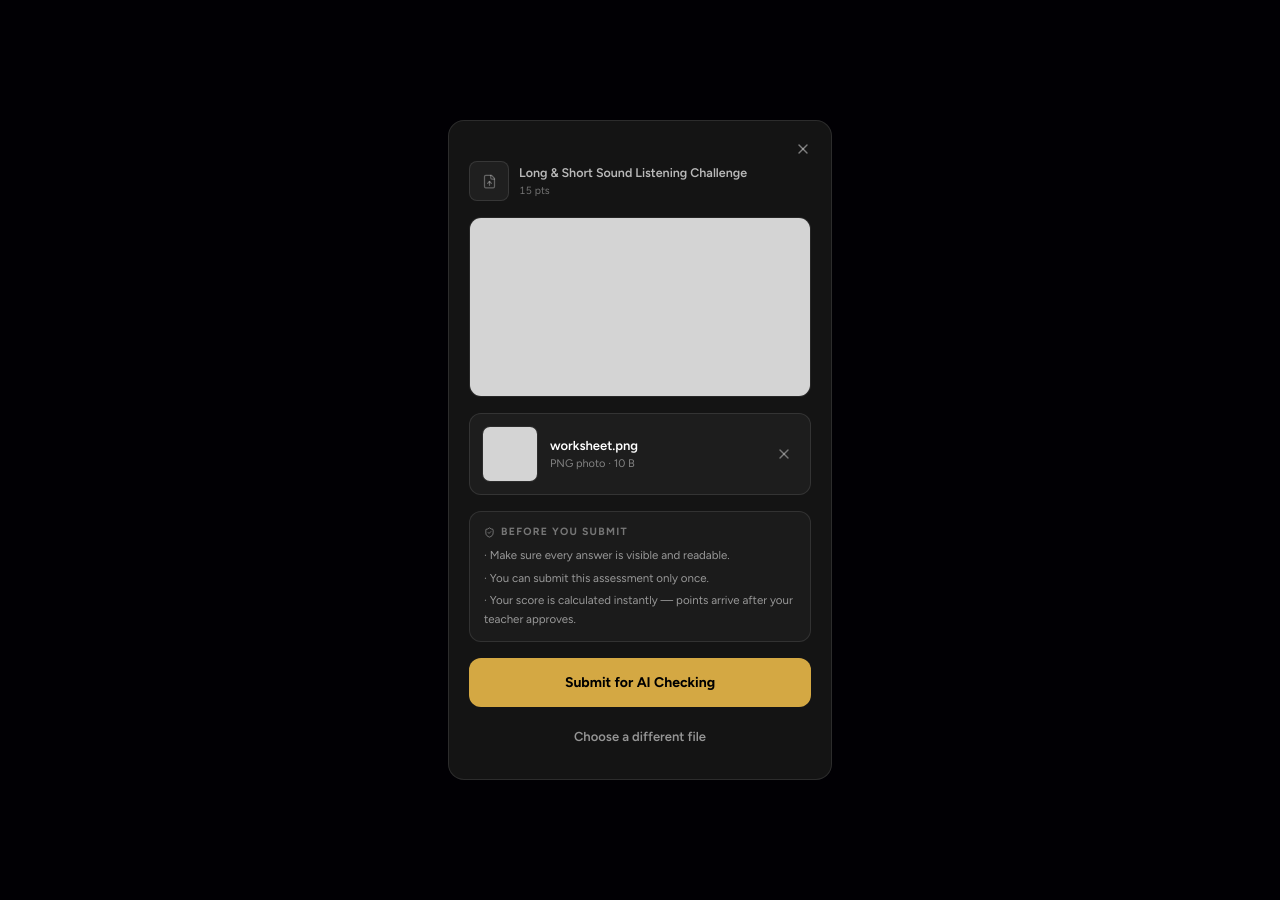
Test case: the remove-file action clears the selection and returns to the three entry points
This screenshot has width=1280, height=900.
Earlier steps of the test are not shown.
Expected: the element with test id "assessment-submit-selected-file" is shown, 469,413 -> 811,495
Click the button with test id "assessment-submit-remove-file-button" at (784,454), box 770,440 -> 798,468
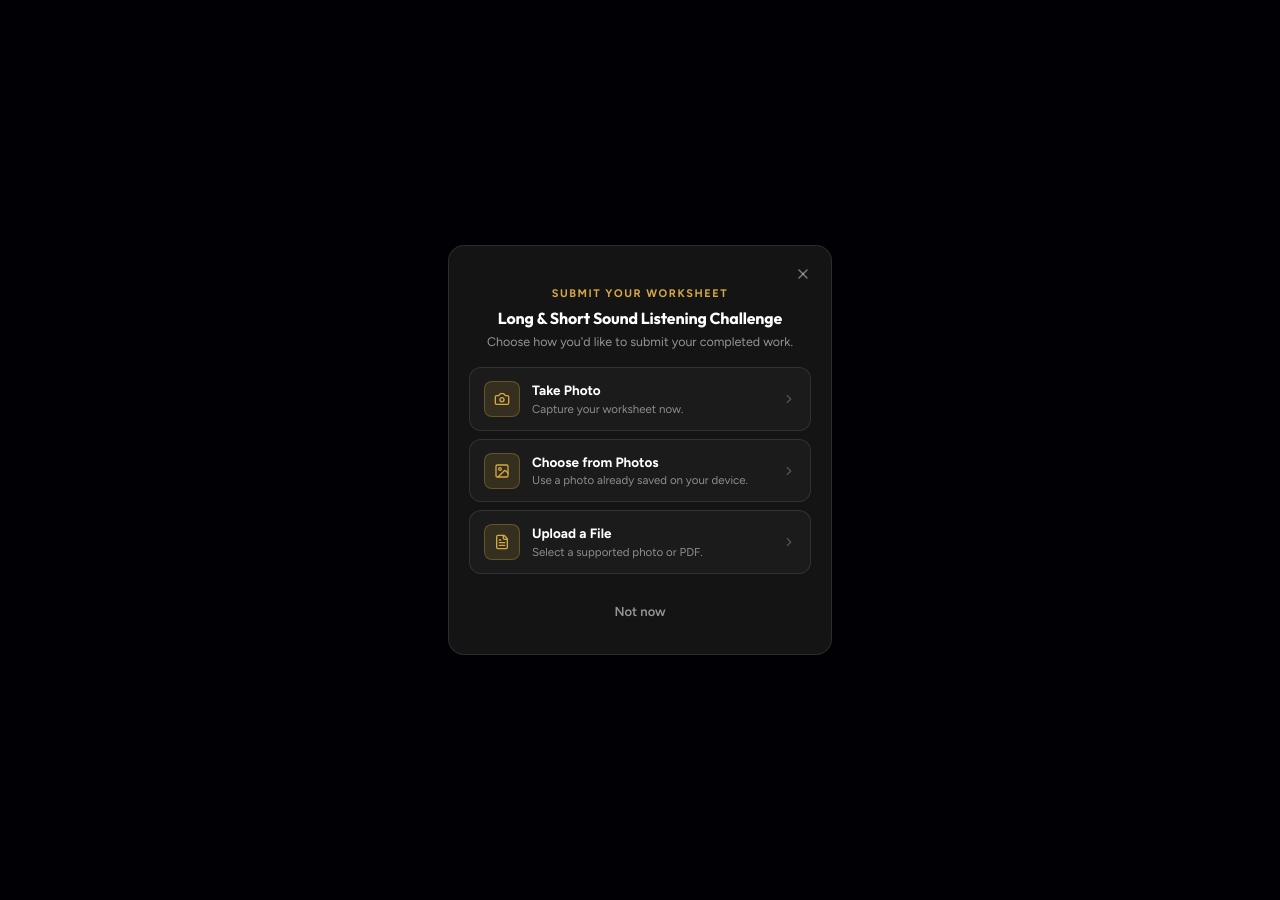
Expected: the button with test id "assessment-submit-take-photo" is shown, 469,367 -> 811,431
Expected: the element with test id "assessment-submit-selected-file" is gone
